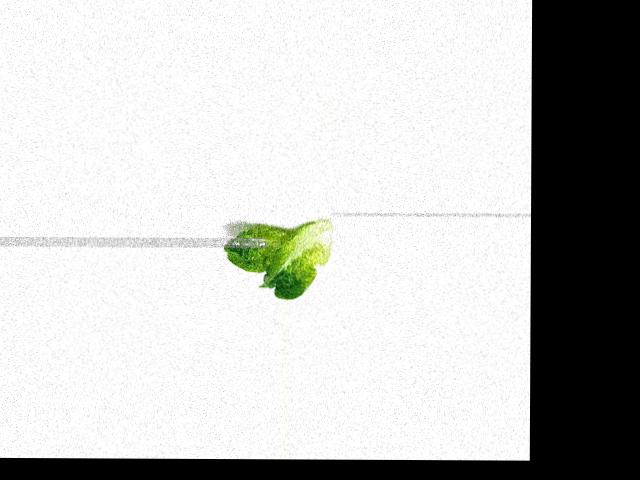lettuce: (220, 223, 336, 300)
